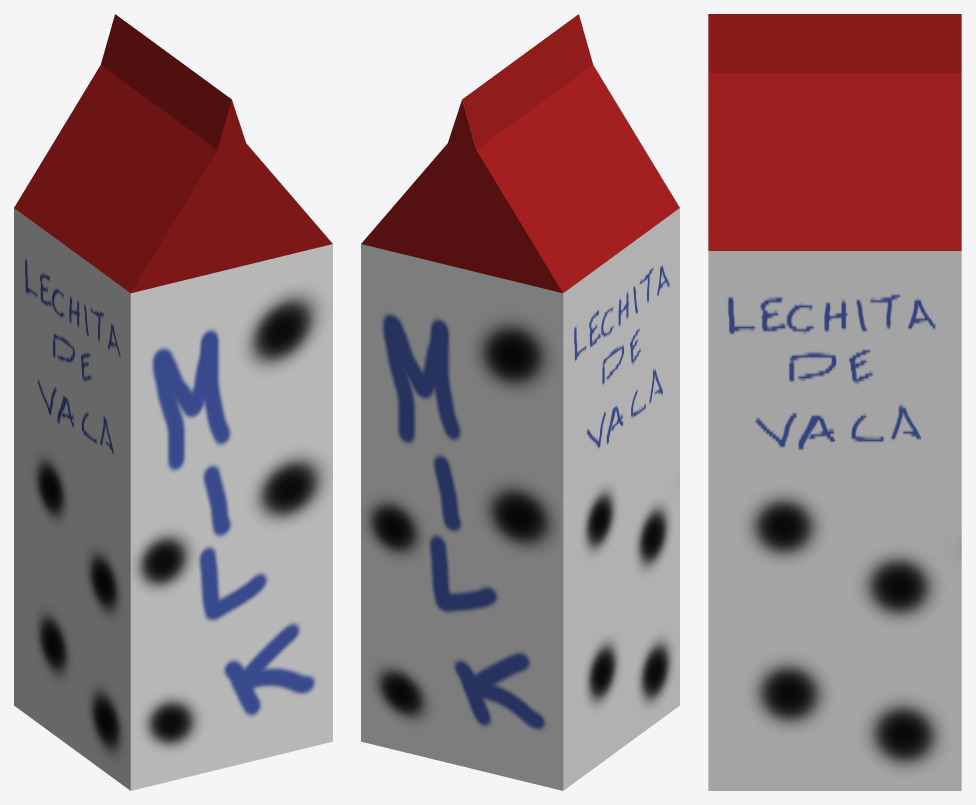
The model's file is Milk.fbx.
The picture shows the model from 3 angles, left to right: view 1: azimuth 30°, elevation 25°; view 2: azimuth 150°, elevation 25°; view 3: azimuth 270°, elevation 25°; orthographic projection. The views are drawn at different scales.
Visible parts, largest first — view 1: Cube; view 2: Cube; view 3: Cube.
Boxes of the visible parts, x1,y1,x2,y2 form: Cube: [14, 14, 332, 790]; Cube: [361, 14, 679, 790]; Cube: [708, 14, 961, 790].
Size of the model in its own units: 17.02 by 53.62 by 17.02.
